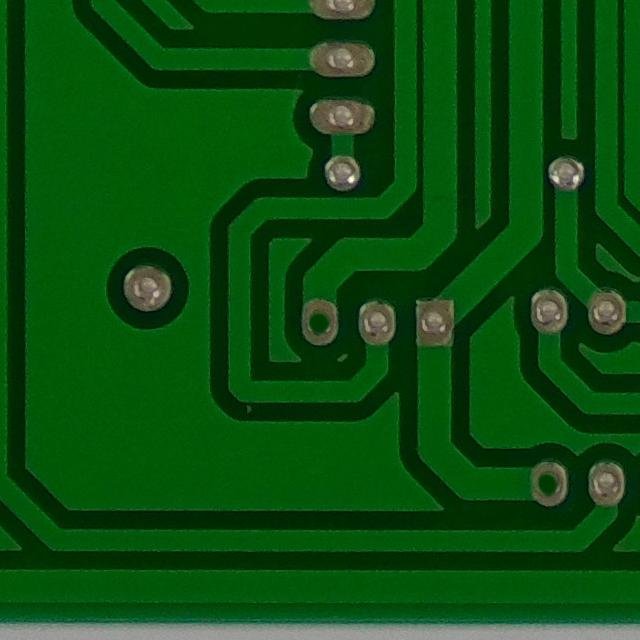missing_hole: (292, 291, 349, 356), (520, 454, 577, 516)
